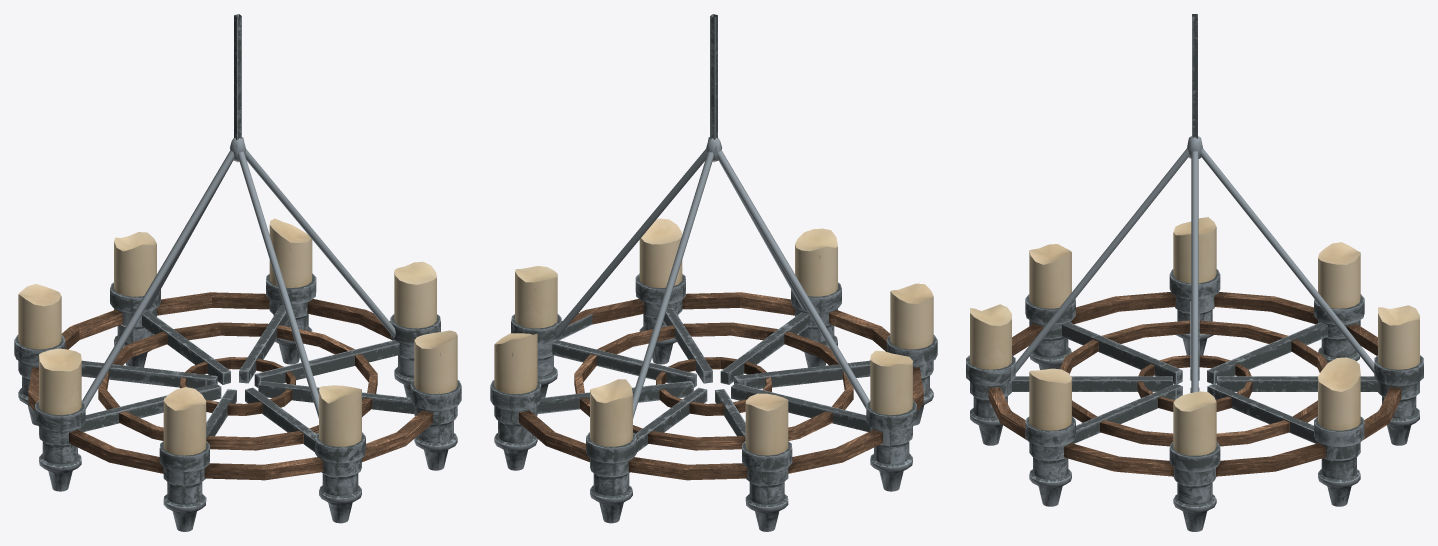
The model's file is jhoomer4.glb.
3 renders of one model, left to right at view 1: azimuth 30°, elevation 25°; view 2: azimuth 150°, elevation 25°; view 3: azimuth 270°, elevation 25°, orthographic.
Visible parts, largest first — view 1: polySurface31, pCube13; view 2: polySurface31, pCube13; view 3: polySurface31, pCube13.
Part boxes in pixels (x1,y1,x2,y2): polySurface31: (14,137,461,531); pCube13: (234,14,241,140); polySurface31: (490,137,937,531); pCube13: (710,14,717,139); polySurface31: (966,136,1423,531); pCube13: (1192,14,1197,138).
Bounding box in the file's own units: 18.37 × 18.99 × 18.37.
1 material, 1 textured.
